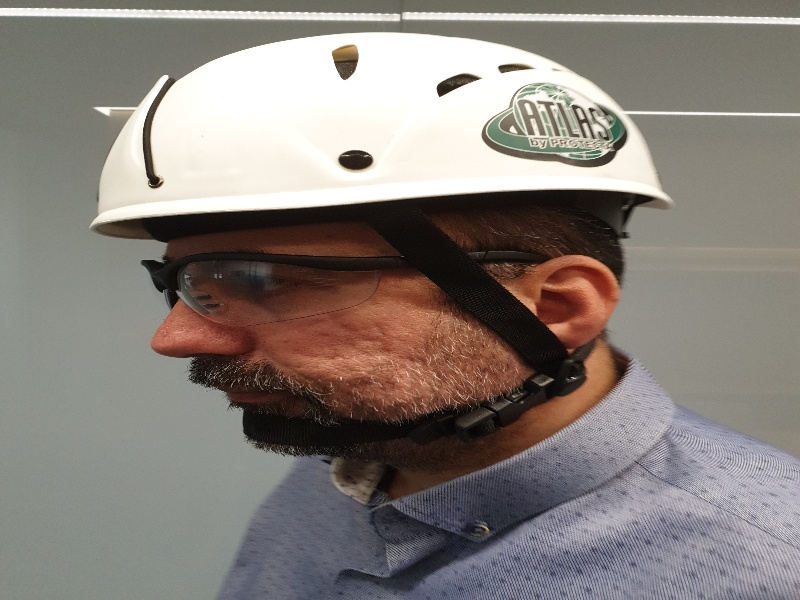Baret: (92, 33, 670, 229)
Gozluk: (132, 250, 538, 323)
